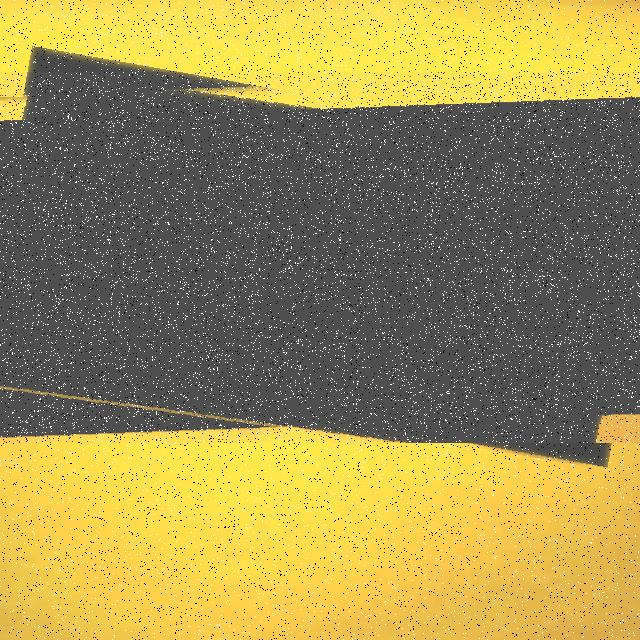lima puluh ribu rupiah: (0, 72, 640, 443)
